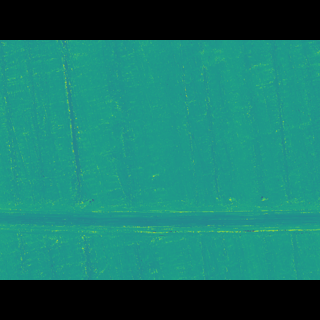Loch: (0, 184, 320, 221)
